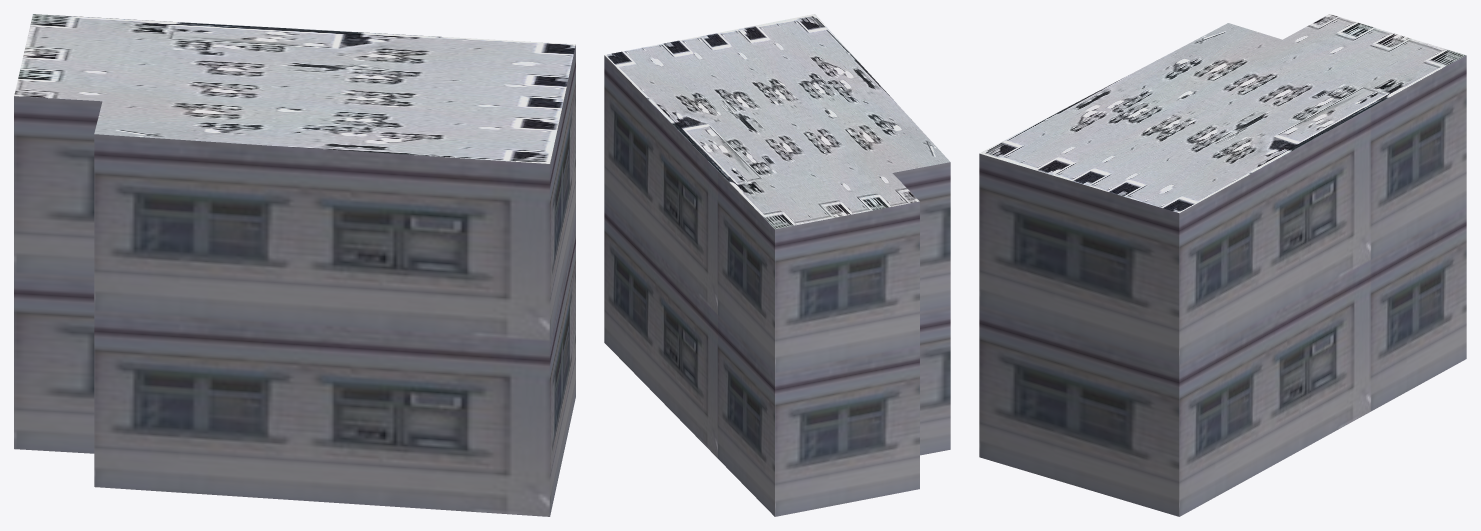
The model's file is ResTex__4632.fbx.
3 renders of one model, left to right at view 1: azimuth 30°, elevation 25°; view 2: azimuth 150°, elevation 25°; view 3: azimuth 270°, elevation 25°, orthographic. The views are drawn at different scales.
Parts seen in each view (by area): view 1: CityEngineMaterial_1_m, CityEngineMaterial_m; view 2: CityEngineMaterial_1_m, CityEngineMaterial_m; view 3: CityEngineMaterial_1_m, CityEngineMaterial_m.
Part boxes in pixels (x1,y1,x2,y2): CityEngineMaterial_1_m: (14, 45, 575, 516); CityEngineMaterial_m: (14, 14, 575, 163); CityEngineMaterial_1_m: (604, 55, 950, 516); CityEngineMaterial_m: (604, 14, 950, 229); CityEngineMaterial_1_m: (979, 55, 1466, 516); CityEngineMaterial_m: (980, 14, 1465, 213).
Size of the model in its own units: 8.44 by 6 by 8.72.
Materials: 2 (2 with a texture image).
